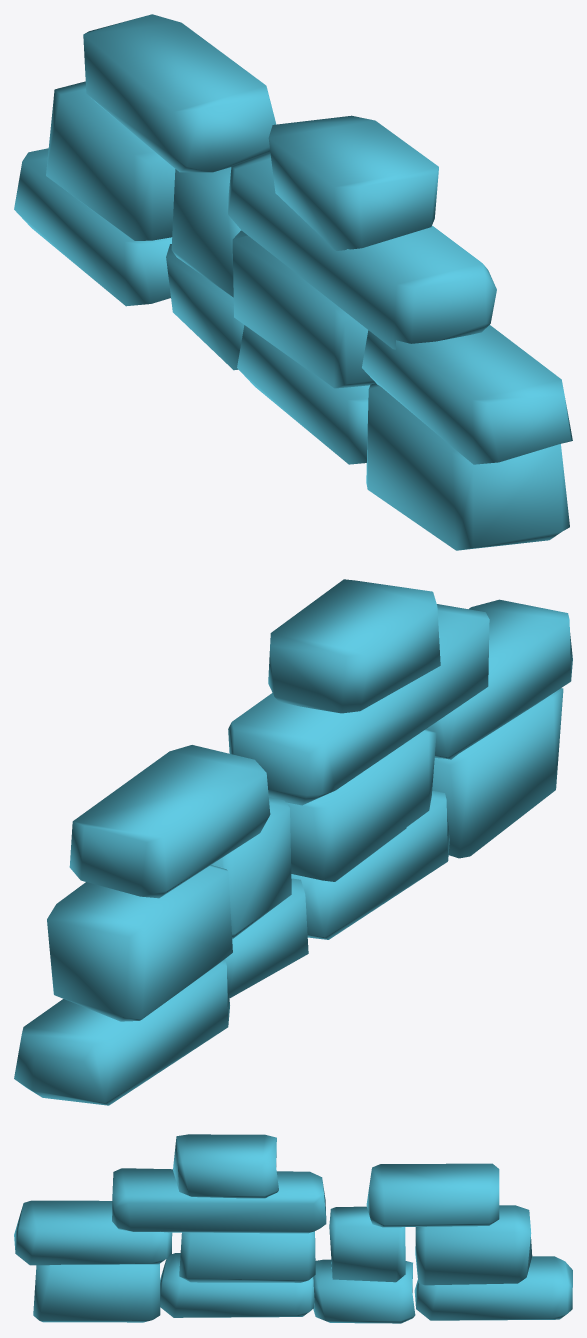
File: brick_wall_01.FBX
3 views of the same model, one above another, from view 1: azimuth 30°, elevation 25°; view 2: azimuth 150°, elevation 25°; view 3: azimuth 270°, elevation 25° (orthographic). The views are drawn at different scales.
Visible parts, largest first — view 1: brick_wall_01; view 2: brick_wall_01; view 3: brick_wall_01.
Boxes of the visible parts, bbox=[...] form: brick_wall_01: bbox=[14, 14, 572, 550]; brick_wall_01: bbox=[14, 579, 572, 1105]; brick_wall_01: bbox=[14, 1134, 572, 1323].
Bounding box in the file's own units: 24.8 × 55.06 × 172.
